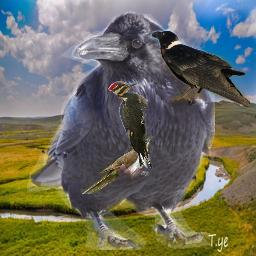Crow: (27, 9, 215, 250), (150, 28, 250, 107)
Cuckoo: (81, 136, 154, 194)
Woodpecker: (108, 81, 153, 170)
